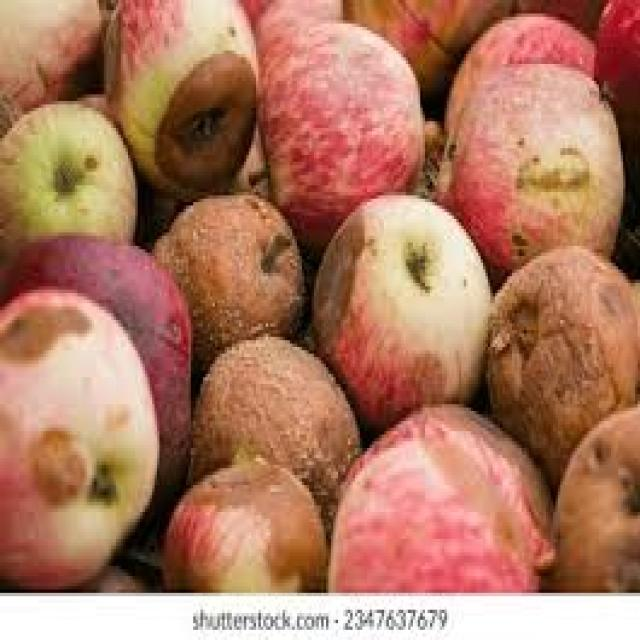apple: (7, 239, 188, 515), (0, 290, 157, 586), (435, 59, 623, 280), (331, 404, 551, 589), (314, 202, 490, 421), (261, 10, 423, 246), (490, 246, 638, 488), (191, 337, 357, 532), (104, 0, 256, 199), (152, 199, 301, 371), (0, 101, 135, 259), (162, 458, 324, 589), (444, 13, 594, 128), (343, 0, 512, 84), (597, 0, 638, 148)
